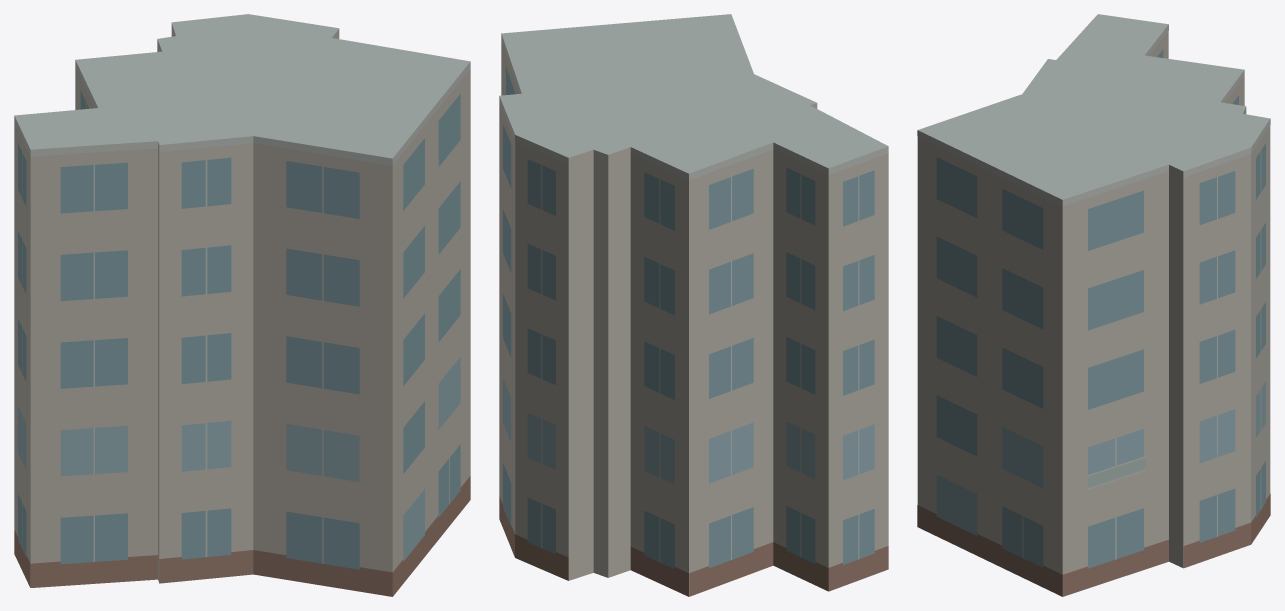
The model's file is survey-upis-32984467.glb.
3 views of the same model, side by side, from view 1: azimuth 30°, elevation 25°; view 2: azimuth 150°, elevation 25°; view 3: azimuth 270°, elevation 25° (orthographic). The views are drawn at different scales.
Parts seen in each view (by area): view 1: survey-upis-32984467.tmp; view 2: survey-upis-32984467.tmp; view 3: survey-upis-32984467.tmp.
Boxes of the visible parts, x1,y1,x2,y2 form: survey-upis-32984467.tmp: (14,14,470,596); survey-upis-32984467.tmp: (499,14,888,596); survey-upis-32984467.tmp: (917,14,1270,596).
Bounding box in the file's own units: 15.27 × 15.2 × 12.25.
